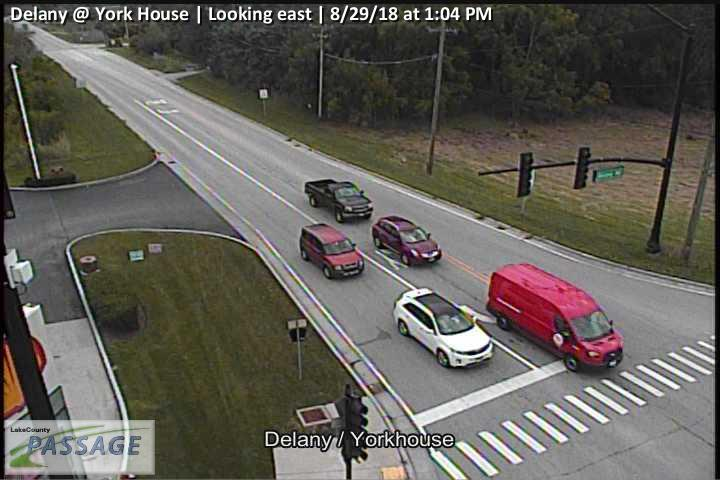SUV: (487, 263, 624, 373), (392, 288, 495, 369), (300, 224, 364, 280), (373, 215, 442, 265)
Truck: (305, 179, 374, 223)
